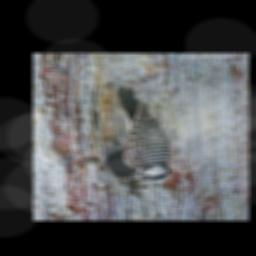Woodpecker: (114, 86, 176, 183)
